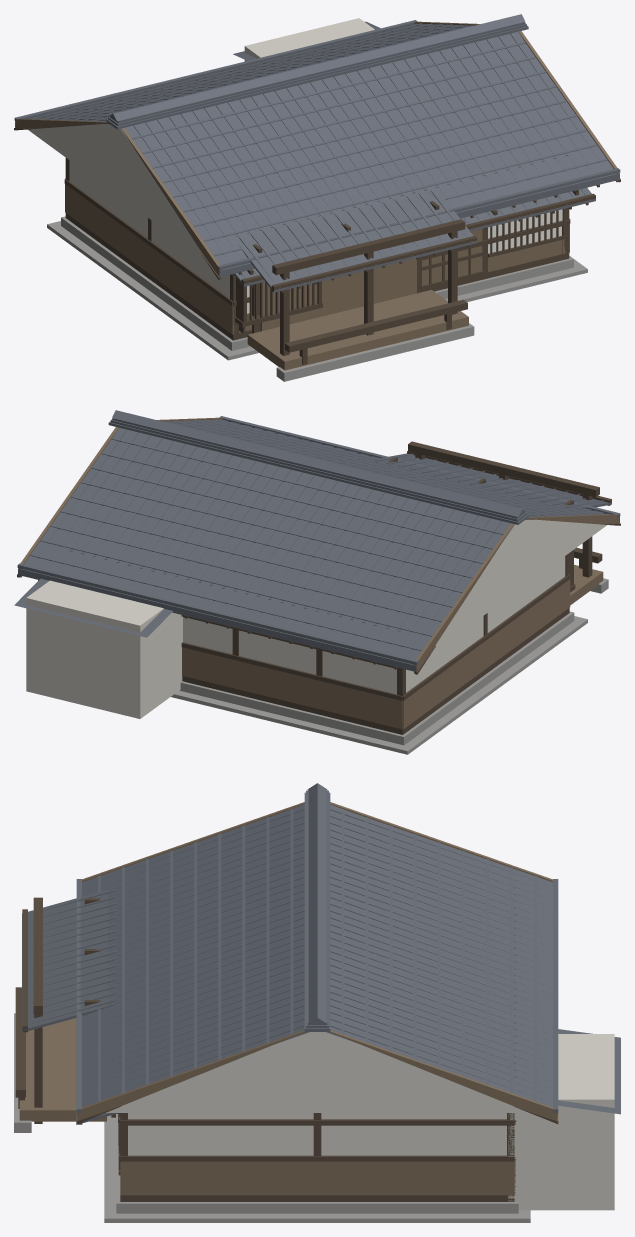
The model's file is family_small_merchant_03.glb.
The picture shows the model from 3 angles, top to bottom: view 1: azimuth 30°, elevation 25°; view 2: azimuth 150°, elevation 25°; view 3: azimuth 270°, elevation 25°; orthographic projection. The views are drawn at different scales.
Parts seen in each view (by area): view 1: family_small_merchant_03; view 2: family_small_merchant_03; view 3: family_small_merchant_03.
Part boxes in pixels (x1,y1,x2,y2): family_small_merchant_03: (14,14,620,381); family_small_merchant_03: (14,410,620,754); family_small_merchant_03: (14,783,620,1222).
Size of the model in its own units: 10.78 by 4.66 by 11.7.
